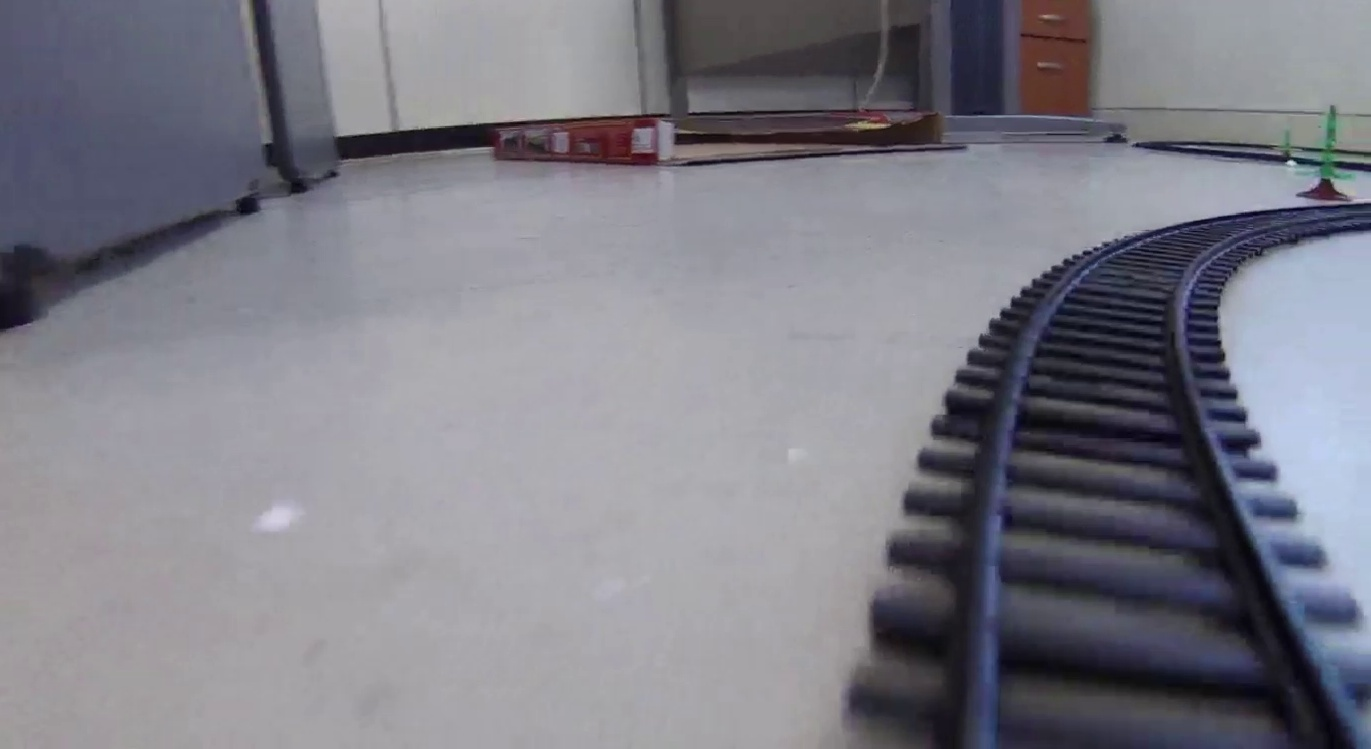tree: (1302, 108, 1355, 201)
